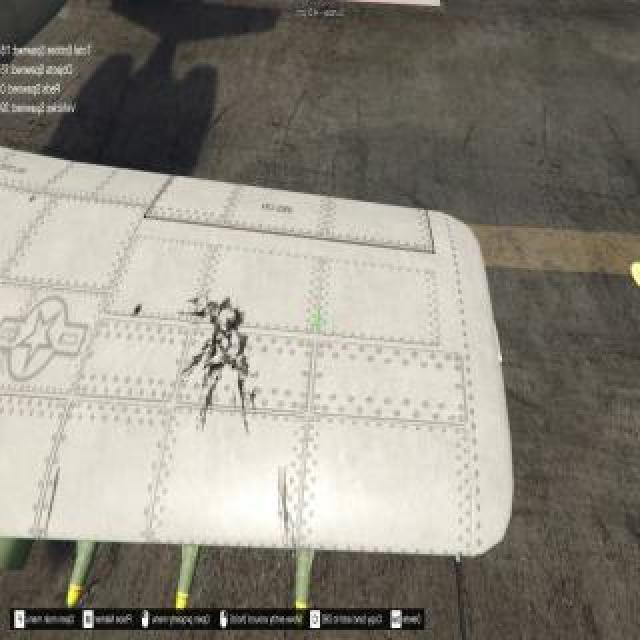crack: (134, 299, 144, 319), (28, 192, 36, 204)
dent: (207, 300, 229, 362), (222, 340, 248, 391), (202, 375, 221, 431), (281, 472, 291, 539), (203, 362, 217, 389), (229, 312, 243, 335)
